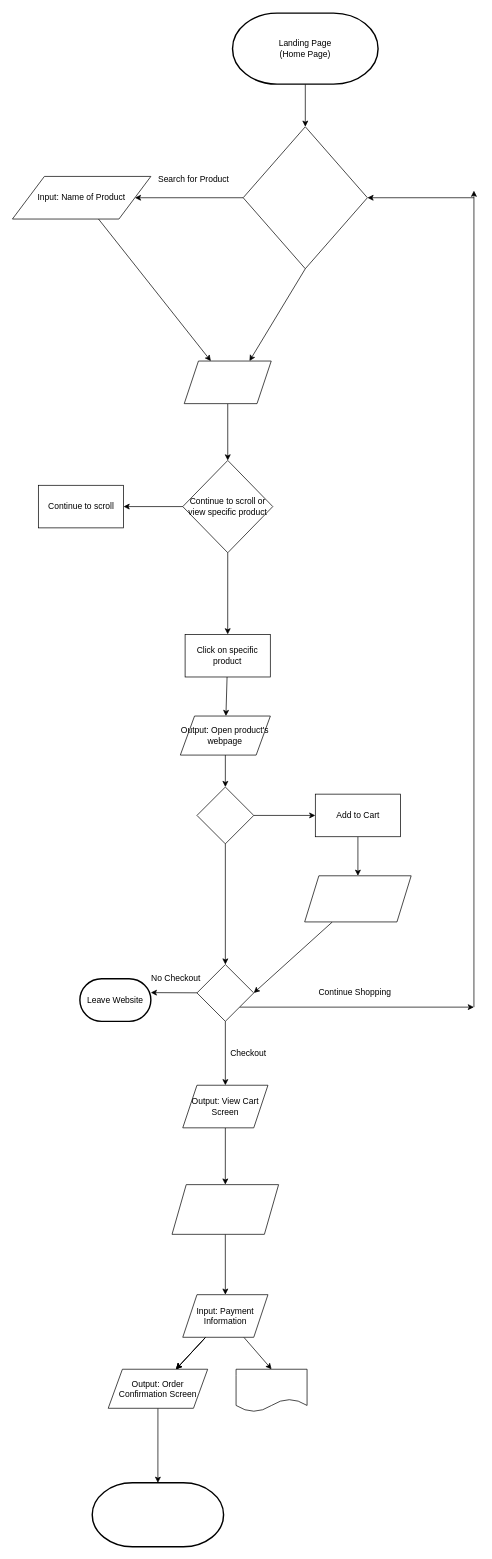
Image size: 492x1559. Some labels were removed from this diagram. Each missing label, with the centre of its shape:
Email Confirmation: point (271, 1390)
Leave Page: point (157, 1514)
Output: Added to Cart Confirmation: point (357, 898)
Output: Products: point (227, 382)
Output: View Payment Screen: point (225, 1209)
User chooses between searching for a product or exploring the home page: point (304, 197)
